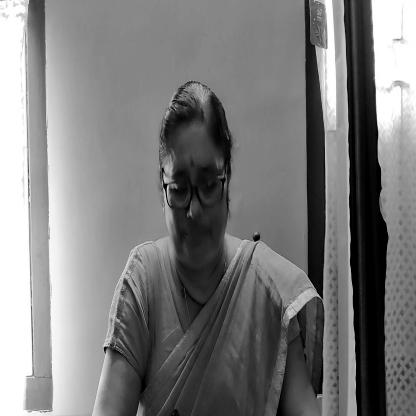Normal: (159, 80, 234, 271)
